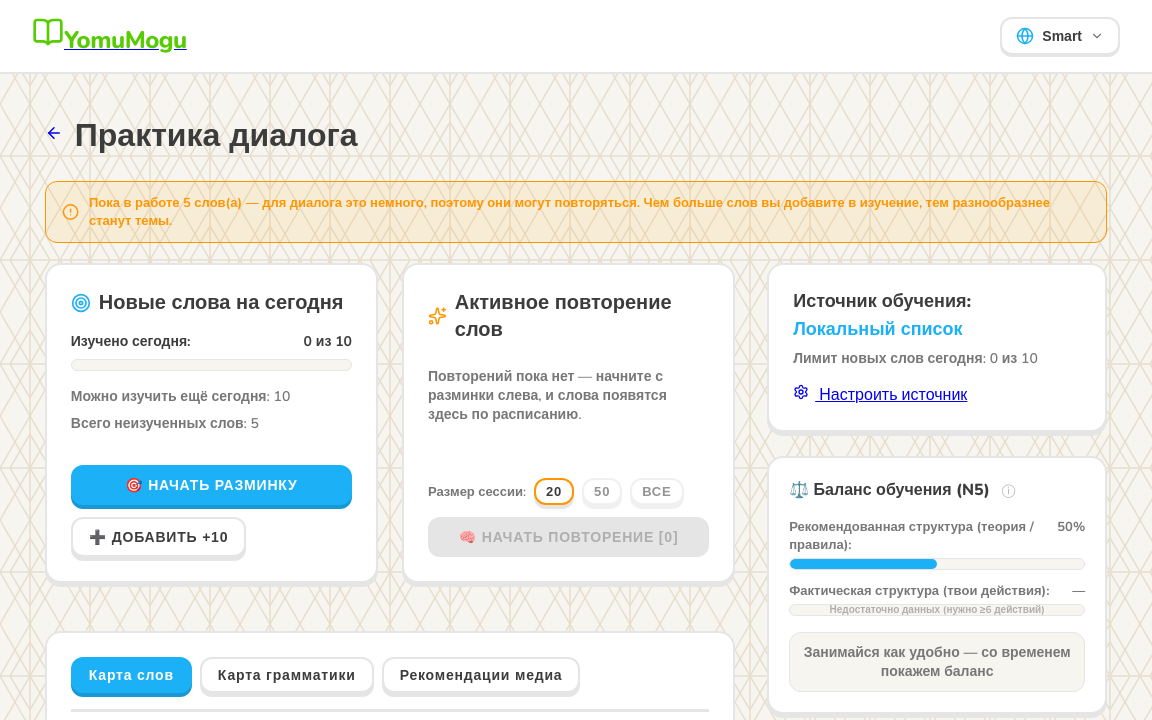
Scenario: PracticePage Component › displays daily limit offset controls and updates limit dynamically
expect the heading "Новые слова на сегодня" is shown: met, box [71,289,352,316]
expect the text "Изучено сегодня:" is shown: met, box [71,332,191,351]
Note: Находим кнопку добавления лимита и кликаем
Step 1. Click the button "➕ Добавить +10" → (159, 537), box [71,517,246,557]
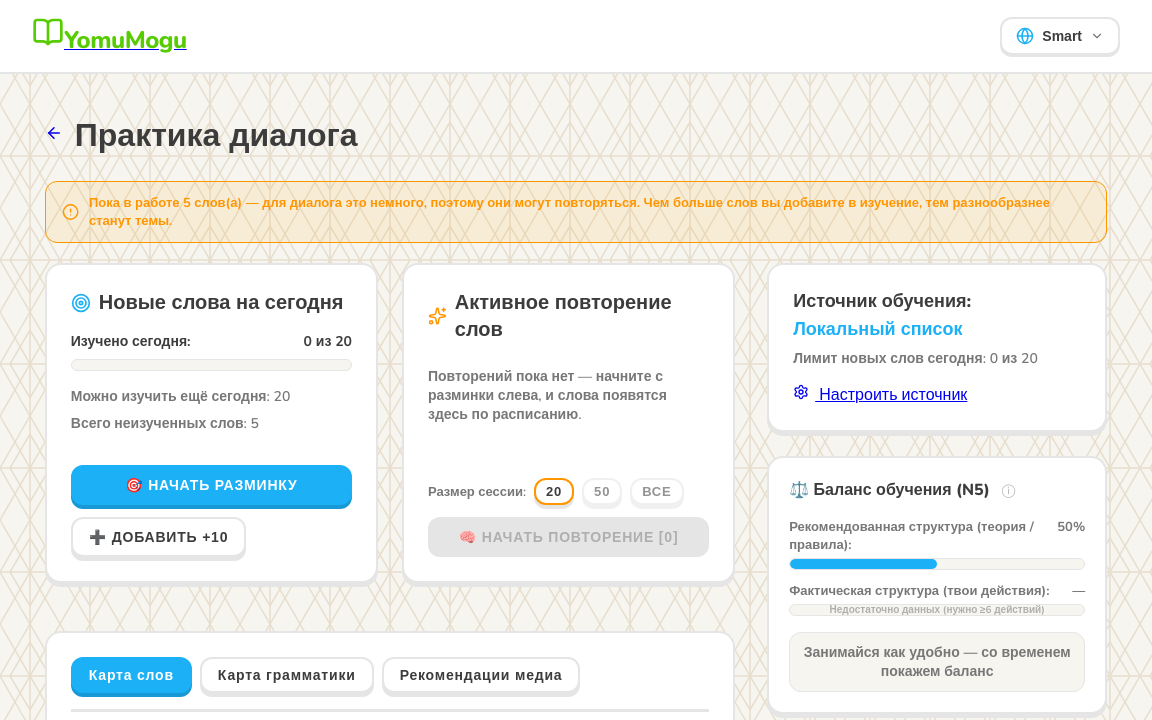
expect the text "0 из 20" is shown: met, box [304,332,352,351]
